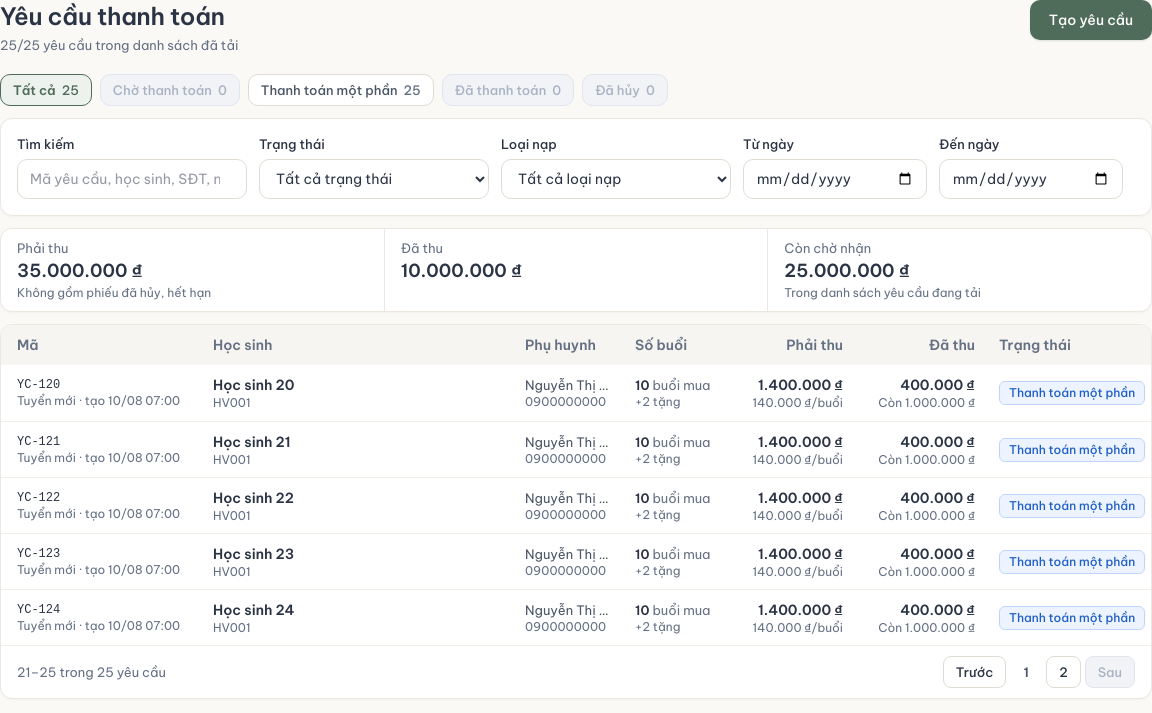
it: Payment request list (step 14c) › reads the URL, writes filters with router.replace on page 1 and pages with router.push, and keeps the create round trip
Expected: the text "25/25 yêu cầu trong danh sách đã tải" is shown, 0,36 -> 238,54
Click the button "1" at (1026, 672), box 1010,656 -> 1042,688
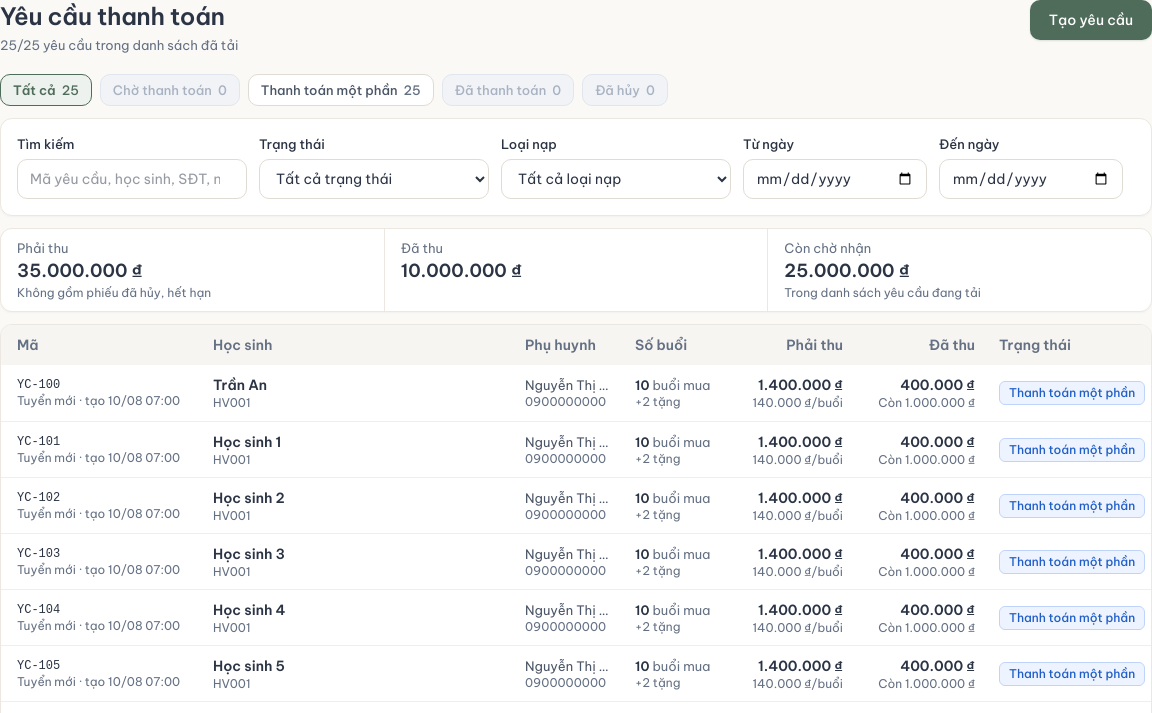
Type "tran an" into the search field with test id "desktop-payment-request-search" at (132, 179), box 17,159 -> 247,199
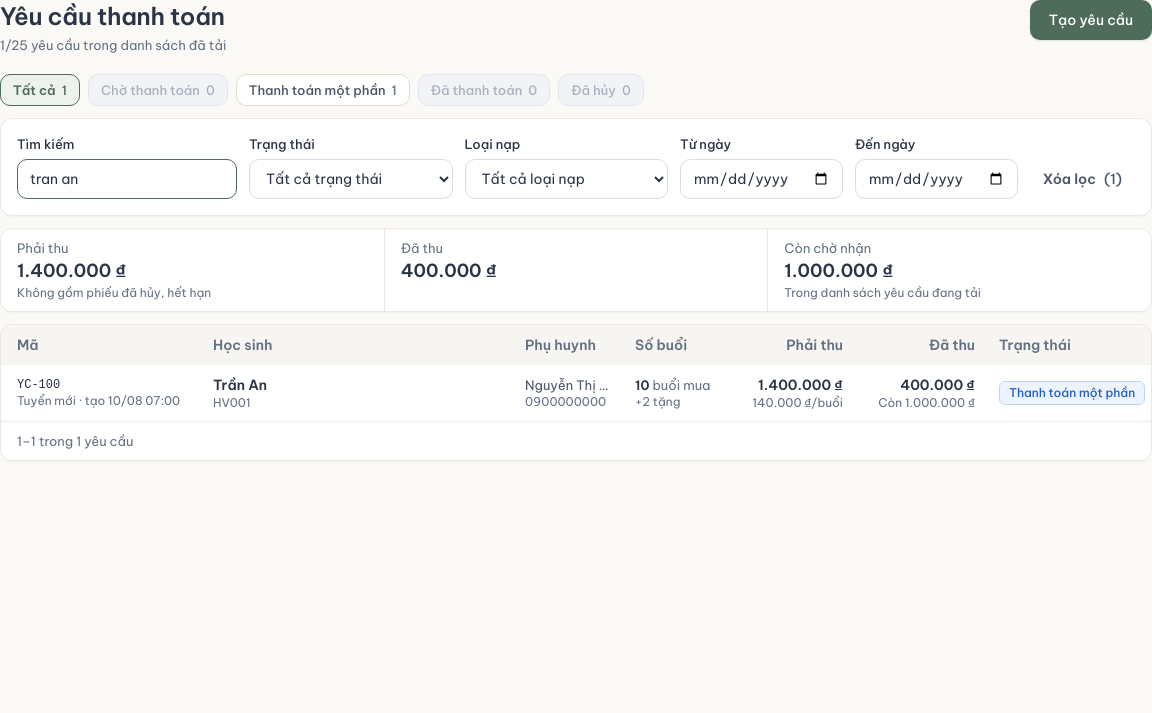
Result: the text "1/25 yêu cầu trong danh sách đã tải" is shown at 0,36 -> 226,54
Result: the button "Xóa lọc (1)" is shown at 1030,159 -> 1135,199
